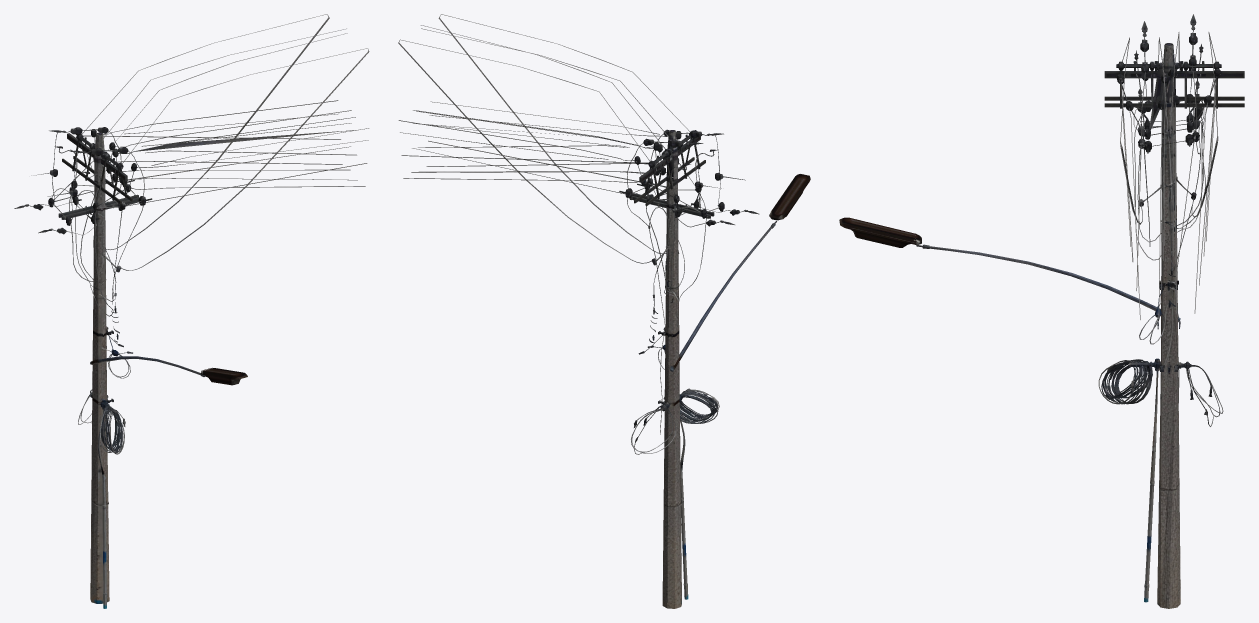
File: Electrical_Pole_01.glb
3 renders of one model, left to right at view 1: azimuth 30°, elevation 25°; view 2: azimuth 150°, elevation 25°; view 3: azimuth 270°, elevation 25°, orthographic. The views are drawn at different scales.
Parts seen in each view (by area): view 1: Electrical_Pole_01.obj; view 2: Electrical_Pole_01.obj; view 3: Electrical_Pole_01.obj.
Part boxes in pixels (x1,y1,x2,y2): Electrical_Pole_01.obj: (14,14,369,608); Electrical_Pole_01.obj: (398,14,810,608); Electrical_Pole_01.obj: (839,14,1244,608).
Size of the model in its own units: 0.6704 by 0.9995 by 0.5981.
Materials: 1 (1 with a texture image).
